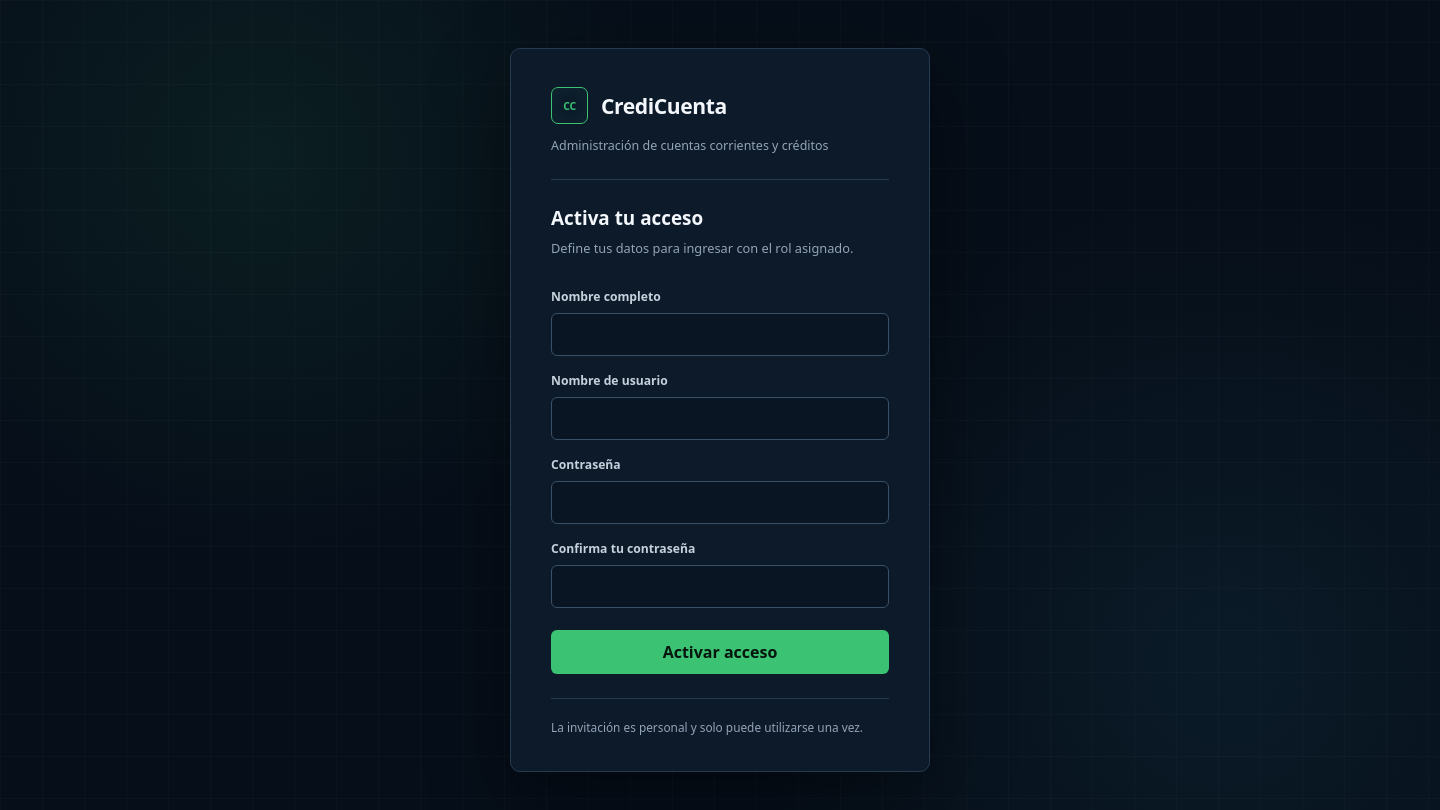
Test case: App por roles › keeps activation available after an API rejection without storing a session
The width and height of the screenshot is (1440, 810).
Type "Ana Torres" into the field labelled "Nombre completo". click: (720, 335)
box: [551,313,889,356]
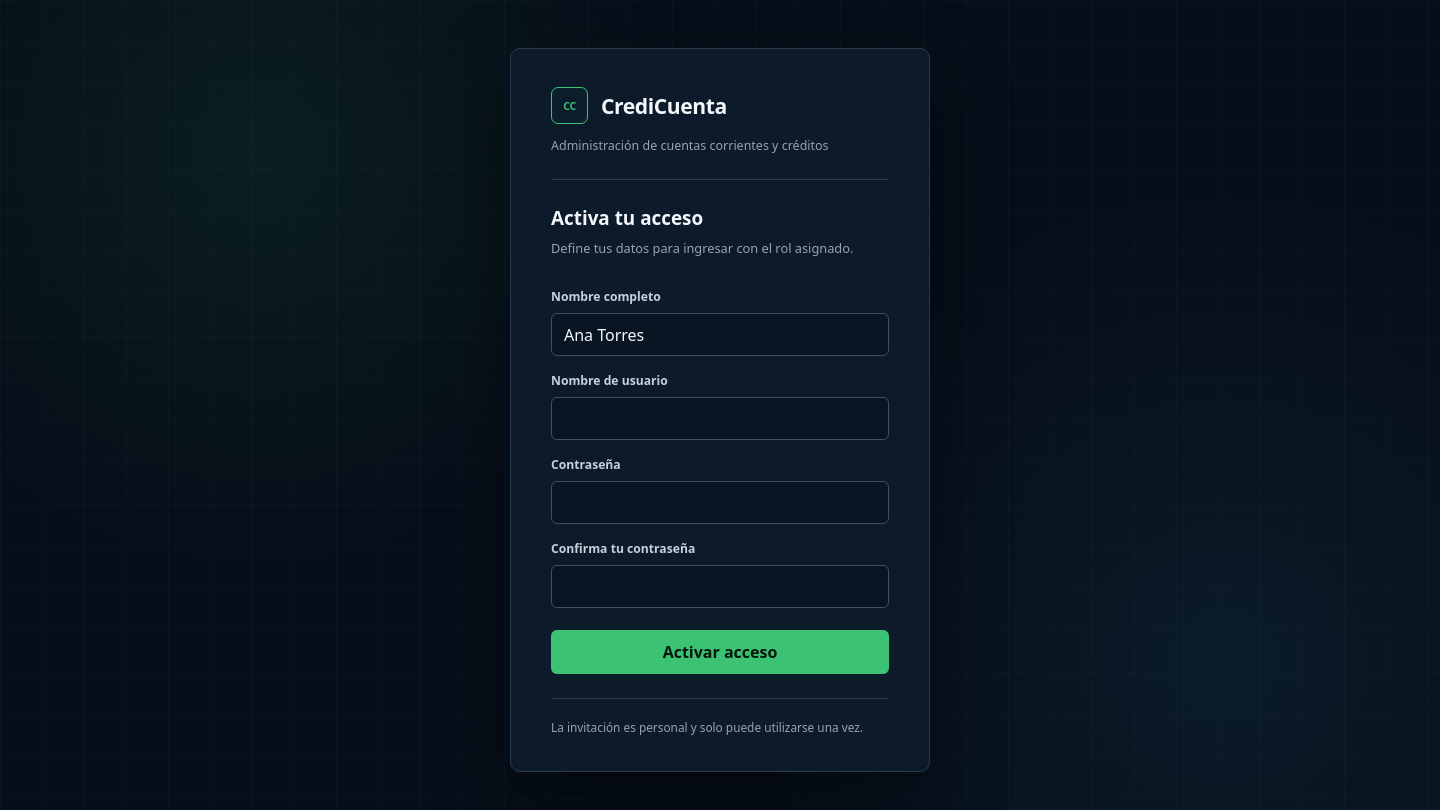
Type "ana.torres" into the field labelled "Nombre de usuario". click: (720, 419)
box: [551,397,889,440]
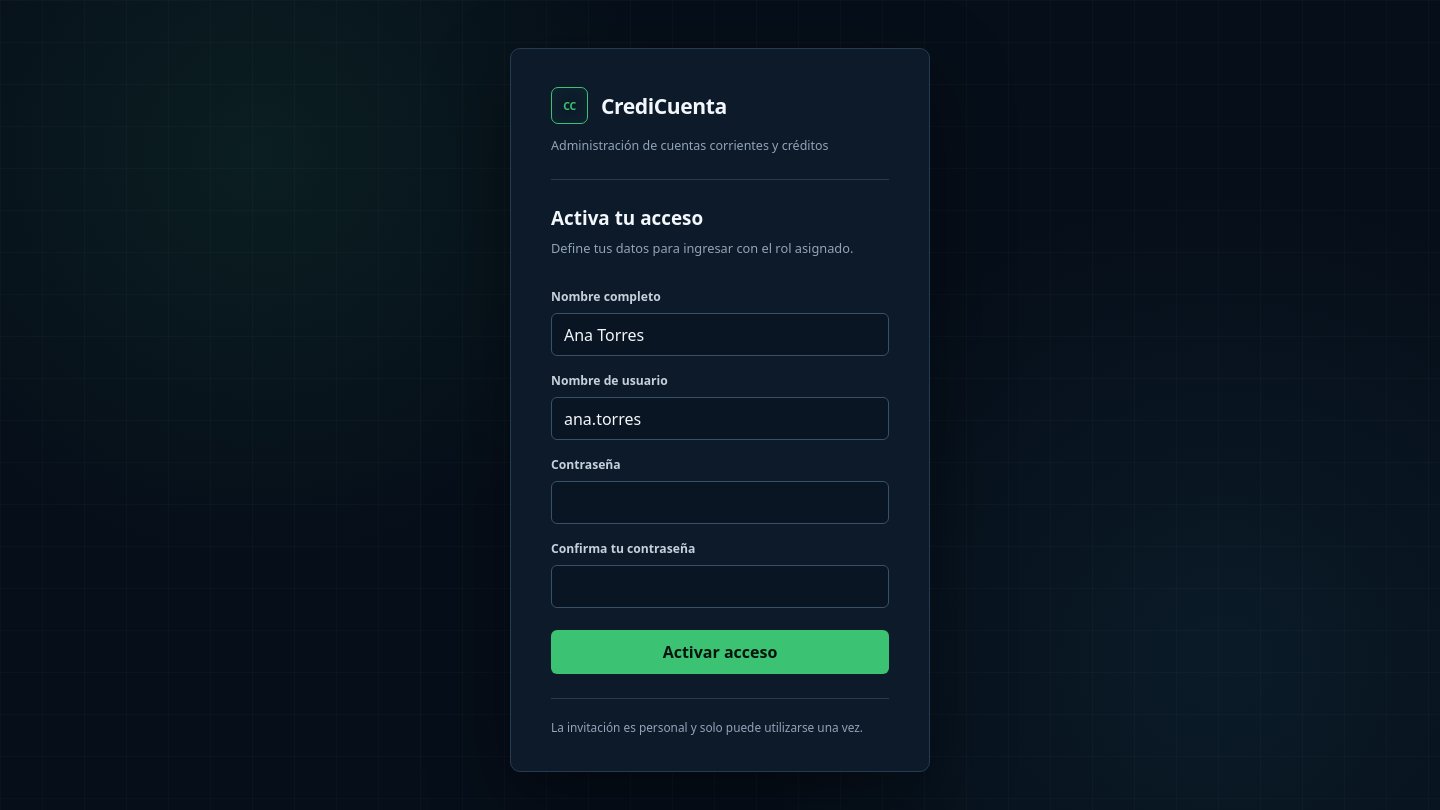
Type "ClaveSegura#2026" into the password field labelled "Contraseña". click: (720, 503)
box: [551,481,889,524]
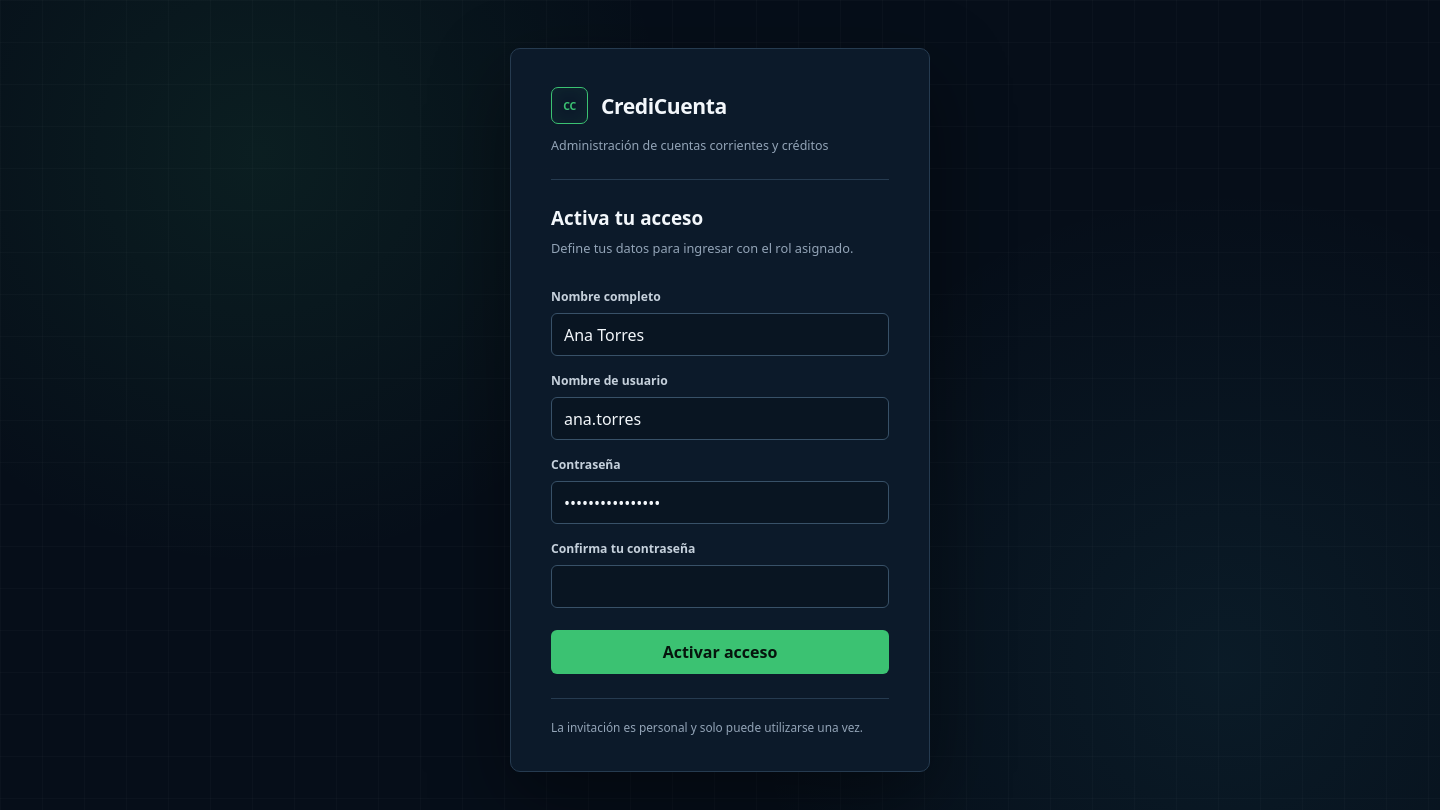
Type "ClaveSegura#2026" into the password field labelled "Confirma tu contraseña". click: (720, 587)
box: [551,565,889,608]
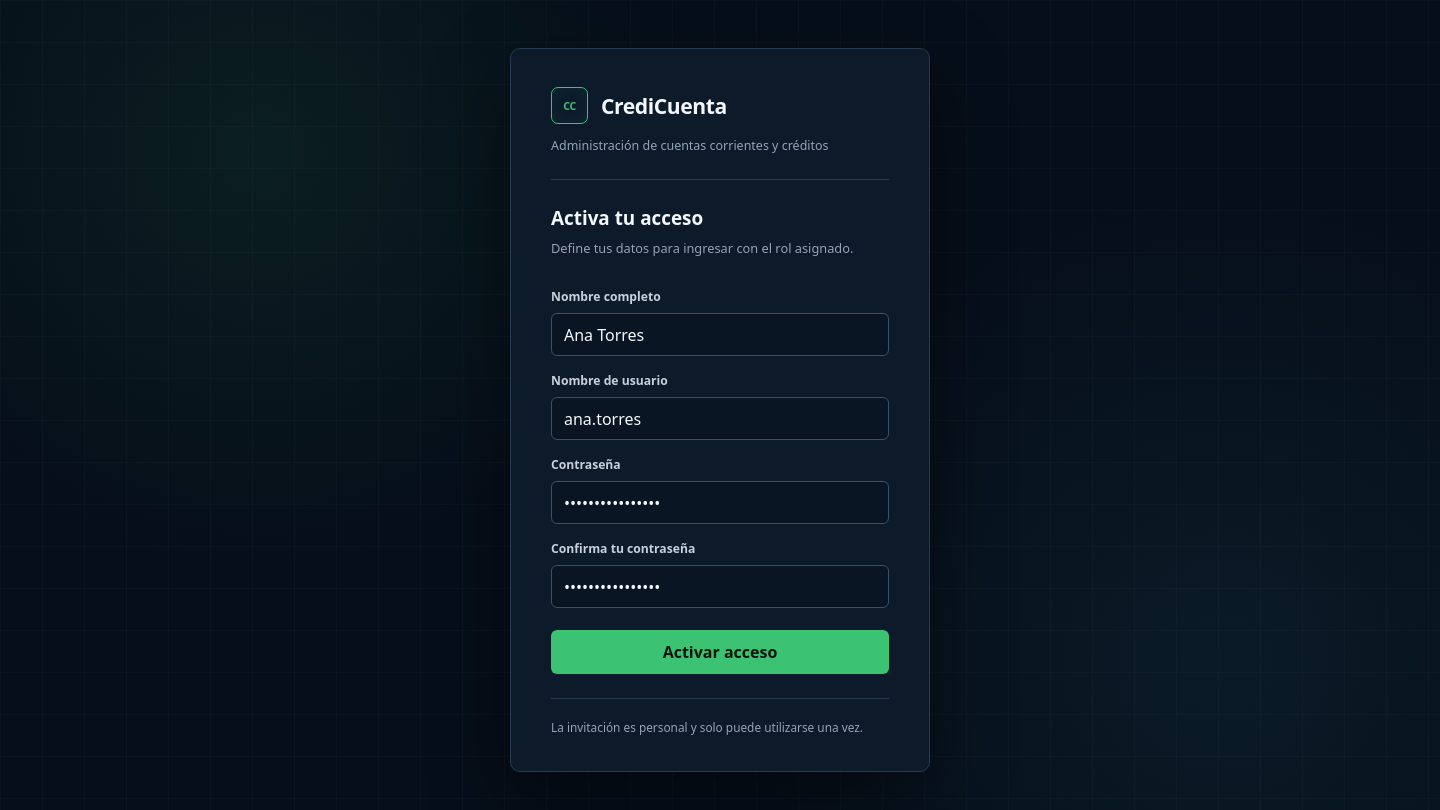
Click the button "Activar acceso". click: (720, 652)
box: [551,630,889,674]
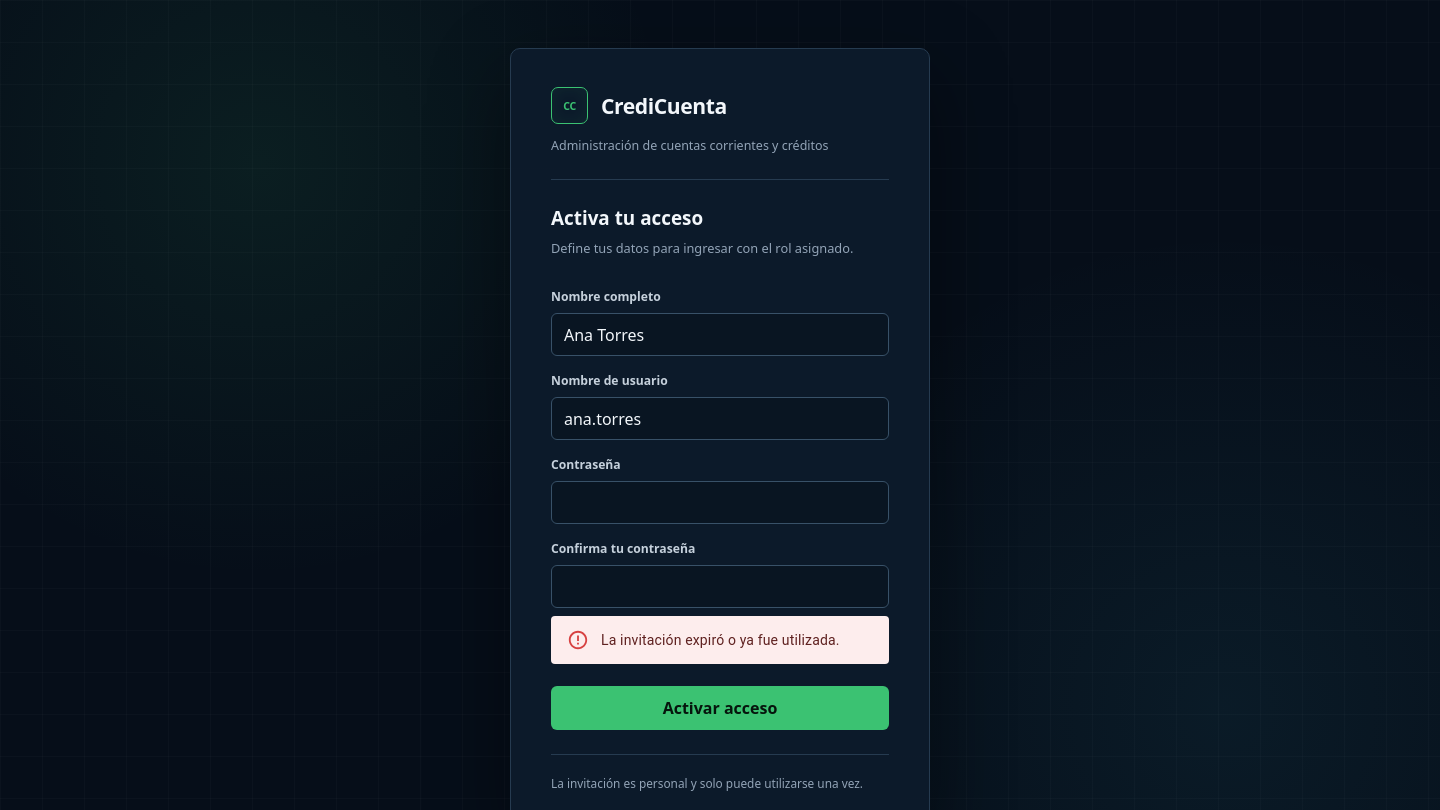
Expected: the text "La invitación expiró o ya fue utilizada." is shown, [601,632,840,648]
Expected: the password field labelled "Contraseña" is empty, [551,481,889,524]
Expected: the password field labelled "Confirma tu contraseña" is empty, [551,565,889,608]
